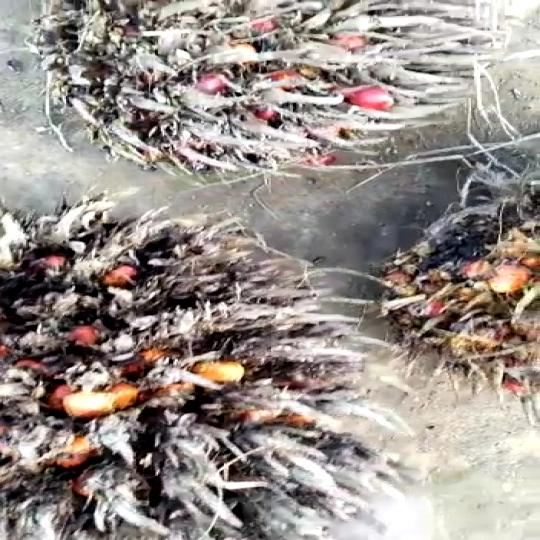terlalu masak: (0, 186, 417, 539), (0, 0, 493, 184)
